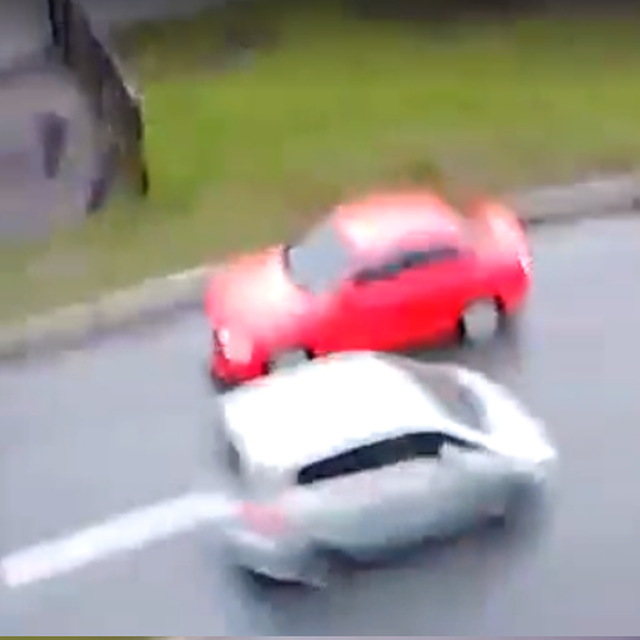car: (215, 351, 558, 586), (207, 187, 533, 384)
